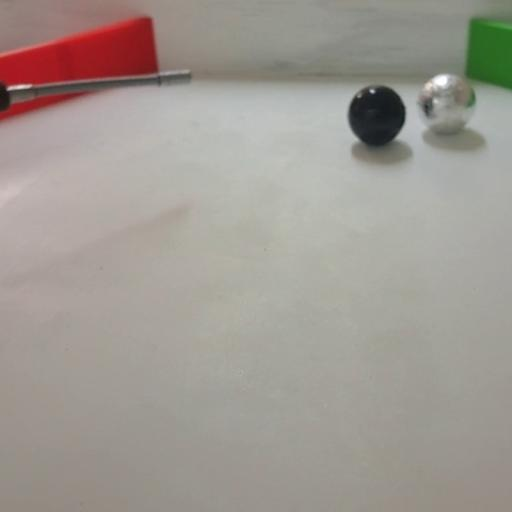alive: (416, 74, 475, 135)
dead: (347, 85, 406, 146)
